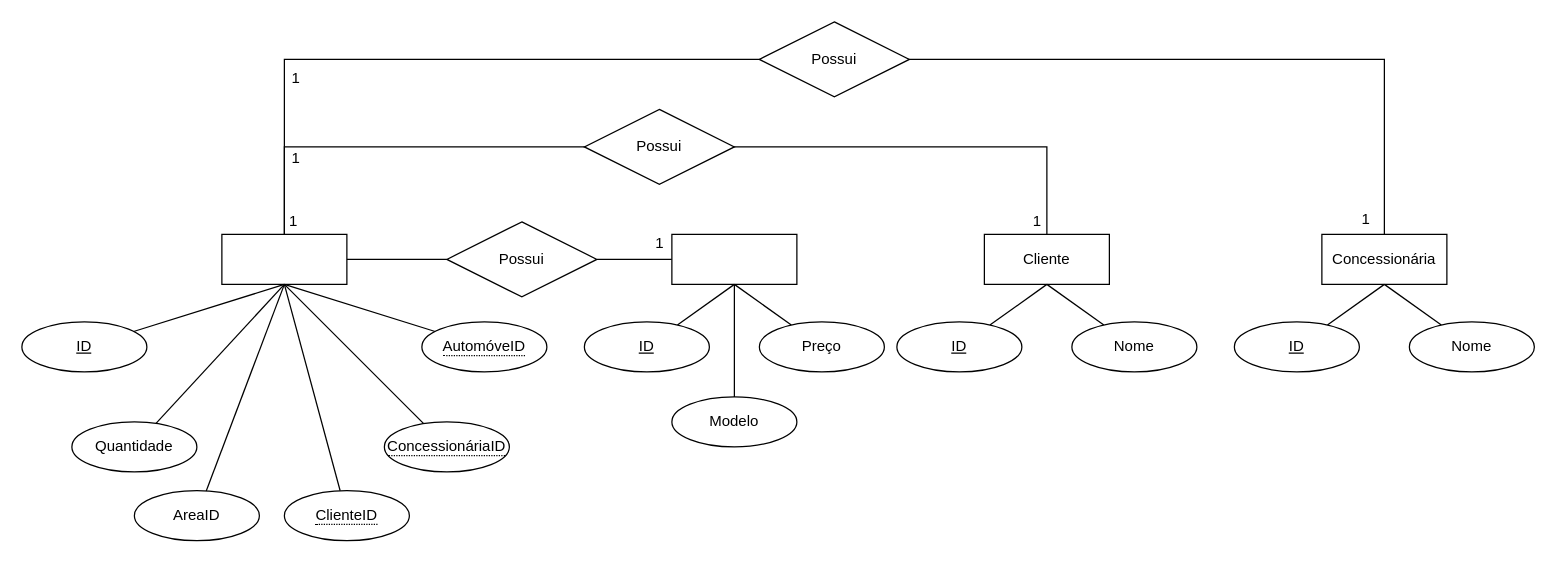
This 1556x563 diagram has some shape labels left out. Here are the shapes that lost their labels. From the top down, the box of each, then its label:
(221, 233, 347, 284): Alocação
(671, 233, 797, 284): Automóvel
